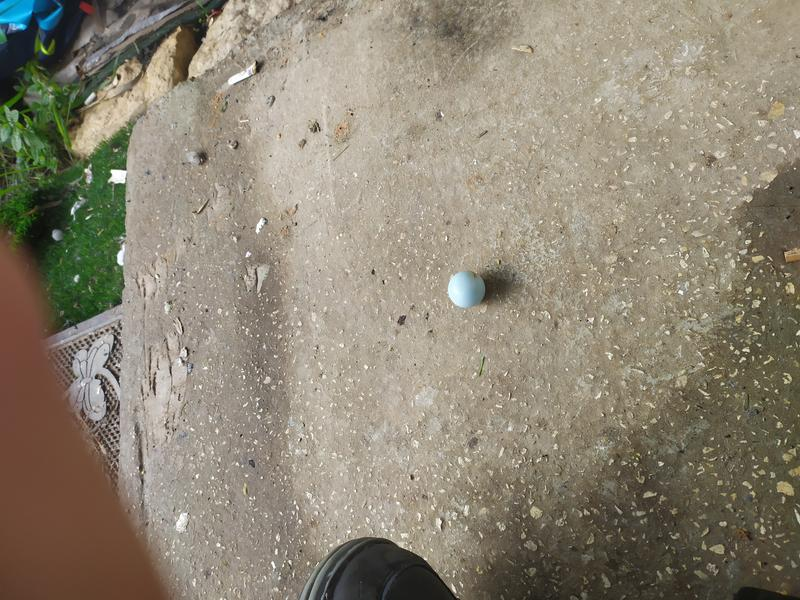Warning: (446, 269, 488, 309)
